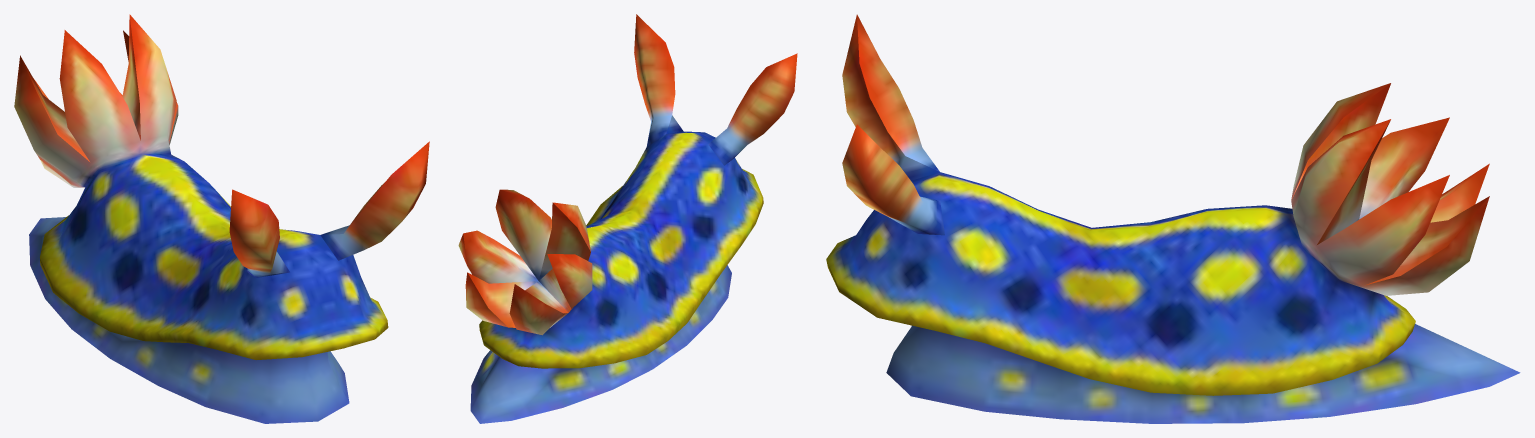
The model's file is sea-slug.glb.
3 views of the same model, side by side, from view 1: azimuth 30°, elevation 25°; view 2: azimuth 150°, elevation 25°; view 3: azimuth 270°, elevation 25° (orthographic). The views are drawn at different scales.
Size of the model in its own units: 0.777 by 0.9991 by 2.07.
Materials: 1 (1 with a texture image).
